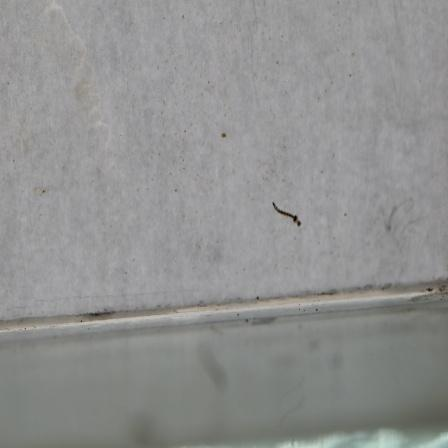Jentik-Nyamuk: (270, 200, 305, 231)
